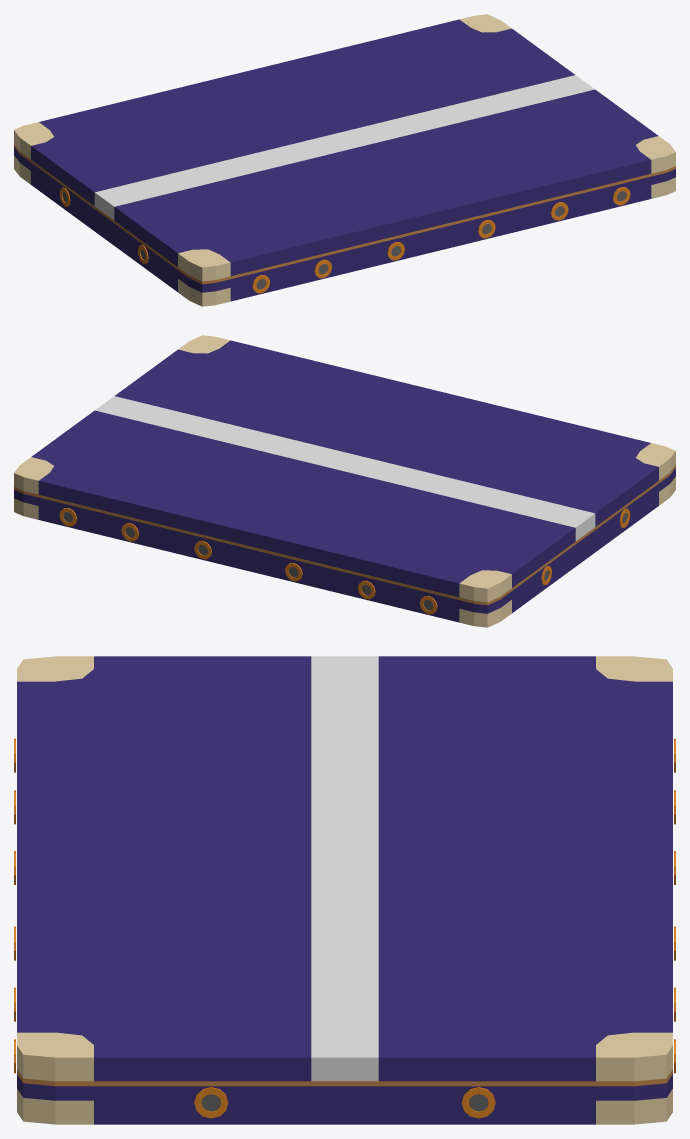
Rendered from Oncorrupte schoolzaken hopelijk.fbx.
3 renders of one model, top to bottom at view 1: azimuth 30°, elevation 25°; view 2: azimuth 150°, elevation 25°; view 3: azimuth 270°, elevation 25°, orthographic. The views are drawn at different scales.
Parts seen in each view (by area): view 1: Kubus.003; view 2: Kubus.003; view 3: Kubus.003.
Part boxes in pixels (bbox=[...]): Kubus.003: bbox=[14, 14, 675, 306]; Kubus.003: bbox=[14, 335, 675, 627]; Kubus.003: bbox=[14, 656, 675, 1124].
Size of the model in its own units: 2.77 by 0.2145 by 1.92.
